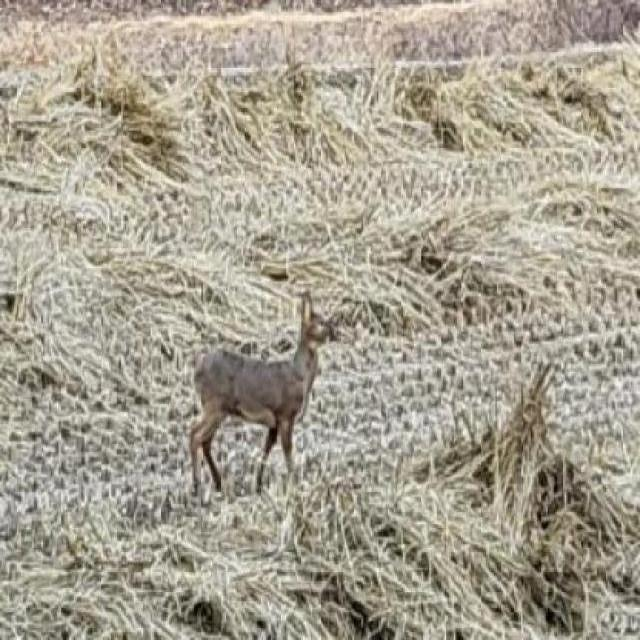deer: (164, 284, 350, 520)
